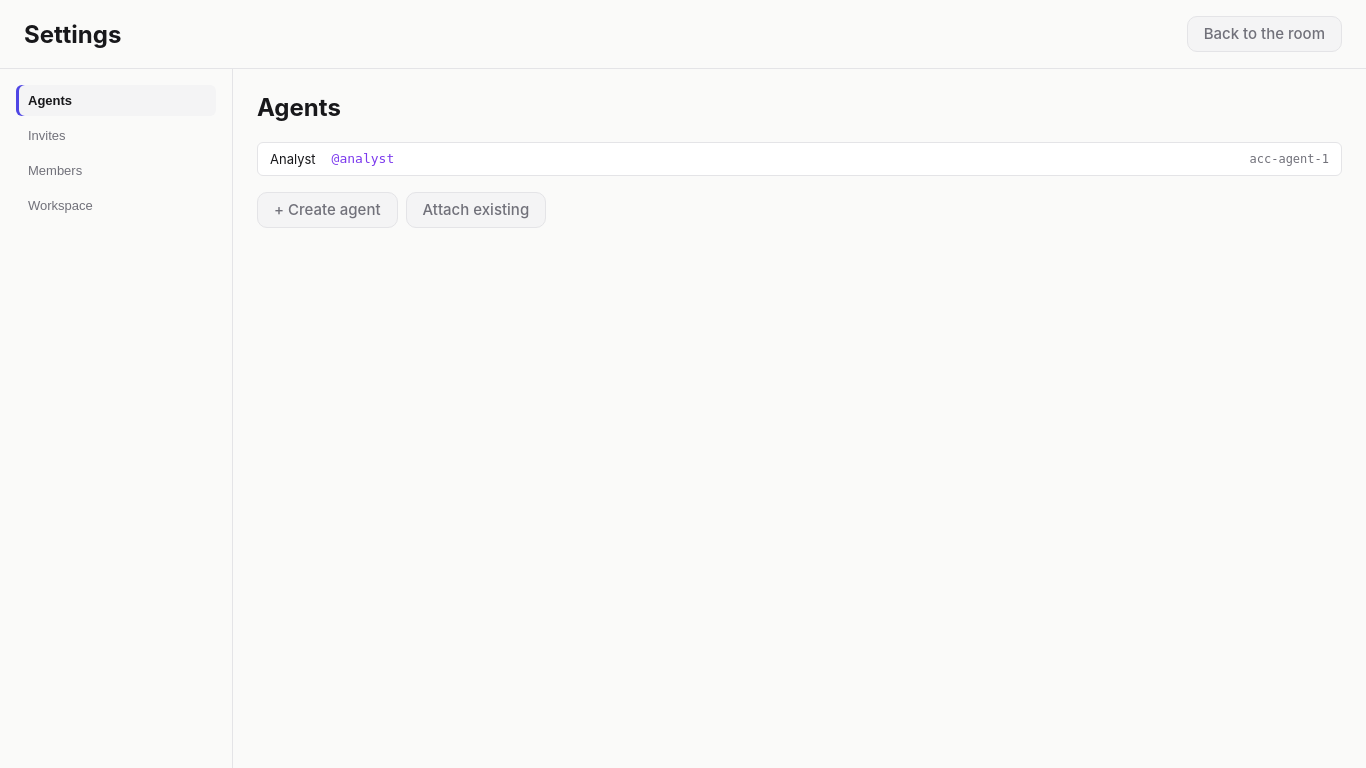
Scenario: Agents panel (web spec §2, constitution §6) › attaching an existing agent account also mints and reveals a fresh key
Expected: the text "Analyst" is shown, [270,151,316,167]
Click the button "Attach existing" at point(476, 210), box [406,192,546,228]
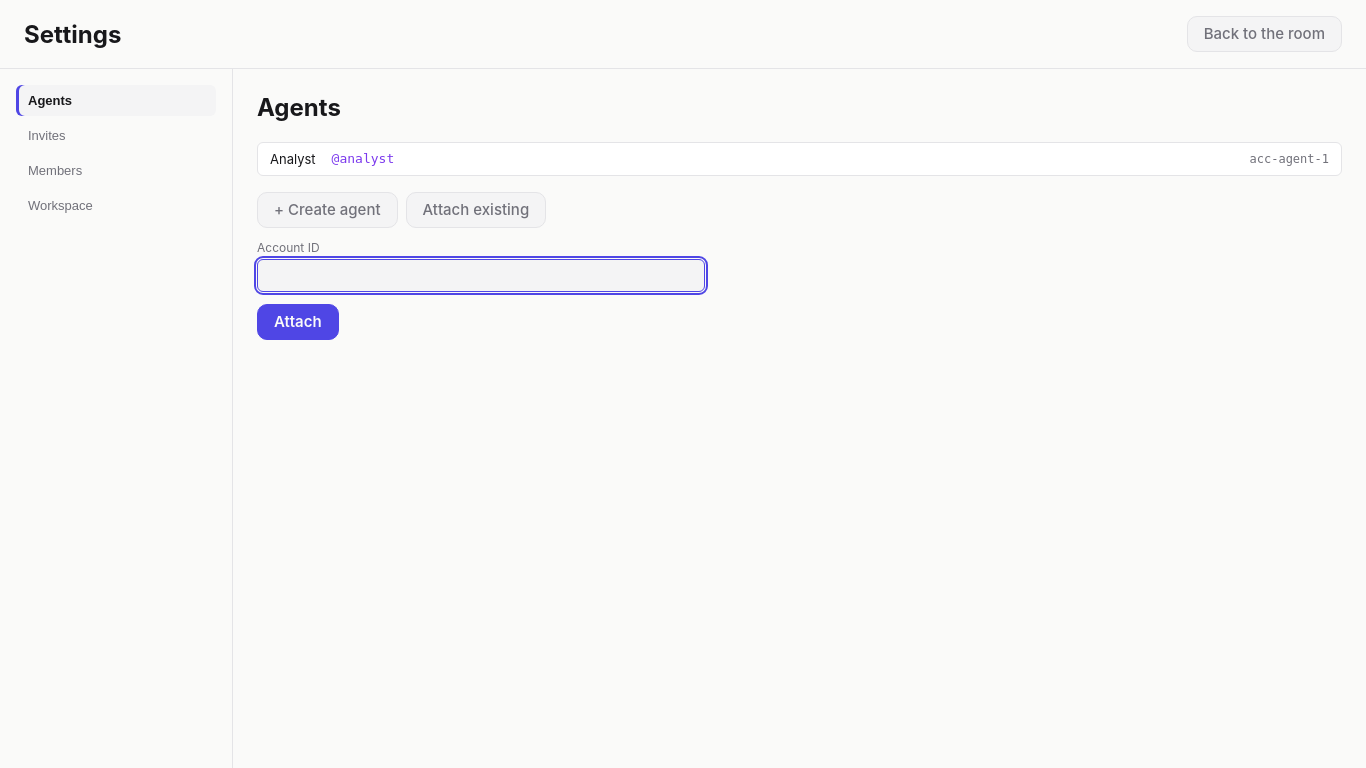
Type "acc-existing" into the field labelled "Account ID" at point(481, 275), box [257,259,705,292]
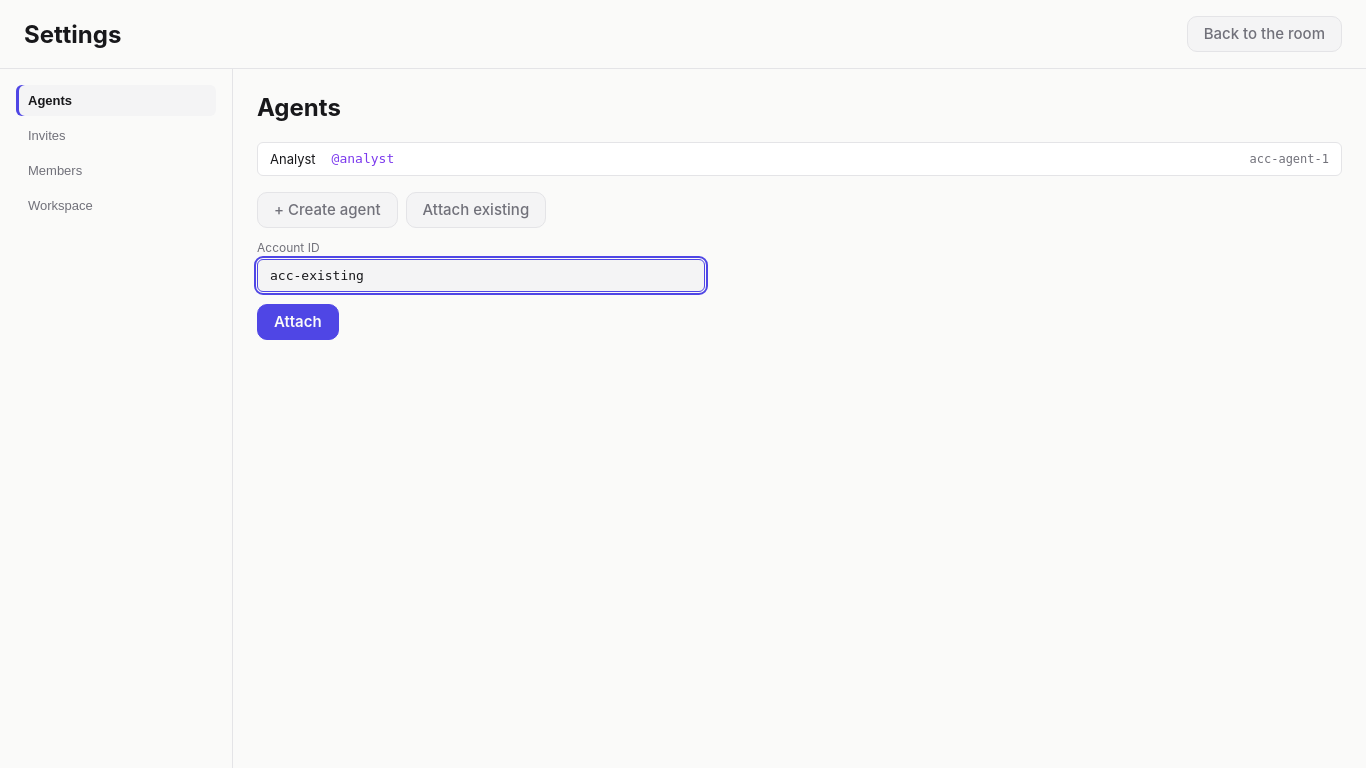
Click the button "Attach" at point(298, 322), box [257,304,339,340]
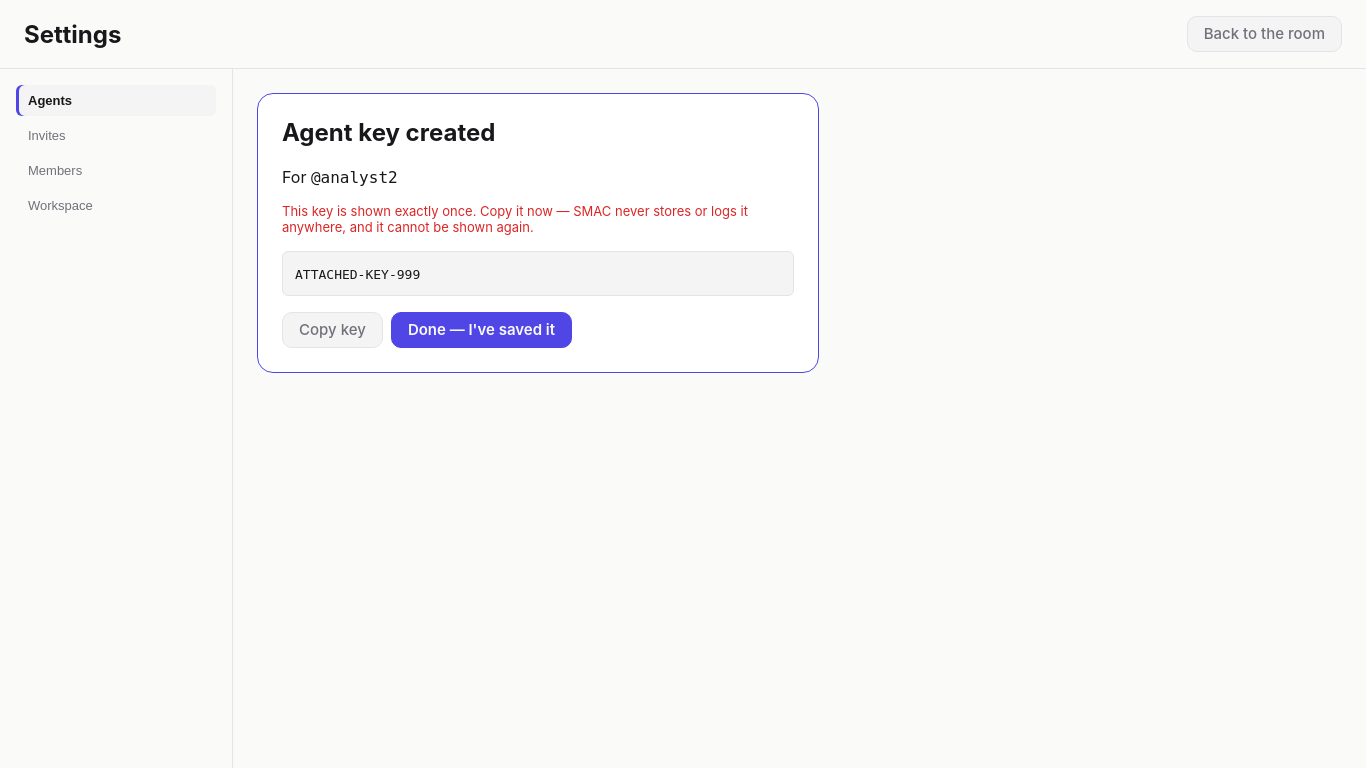
Now the text "ATTACHED-KEY-999" is shown, box [295,267,420,282]
